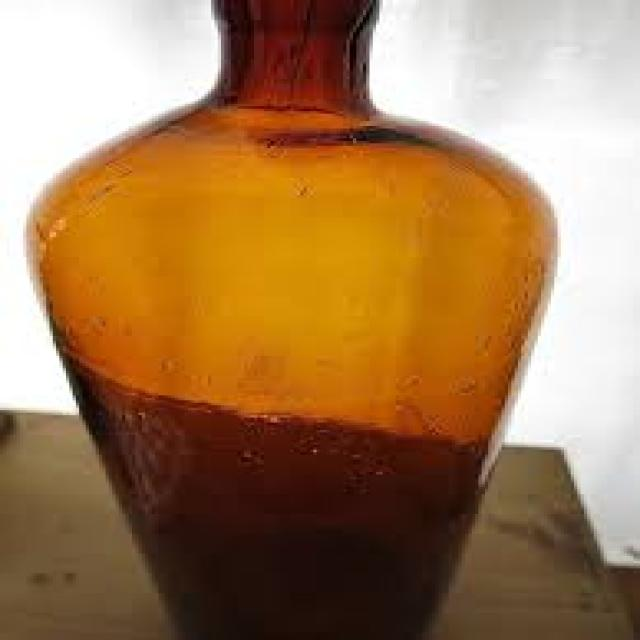glass: (30, 0, 551, 638)
